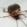cockroach: (8, 4, 20, 20)
